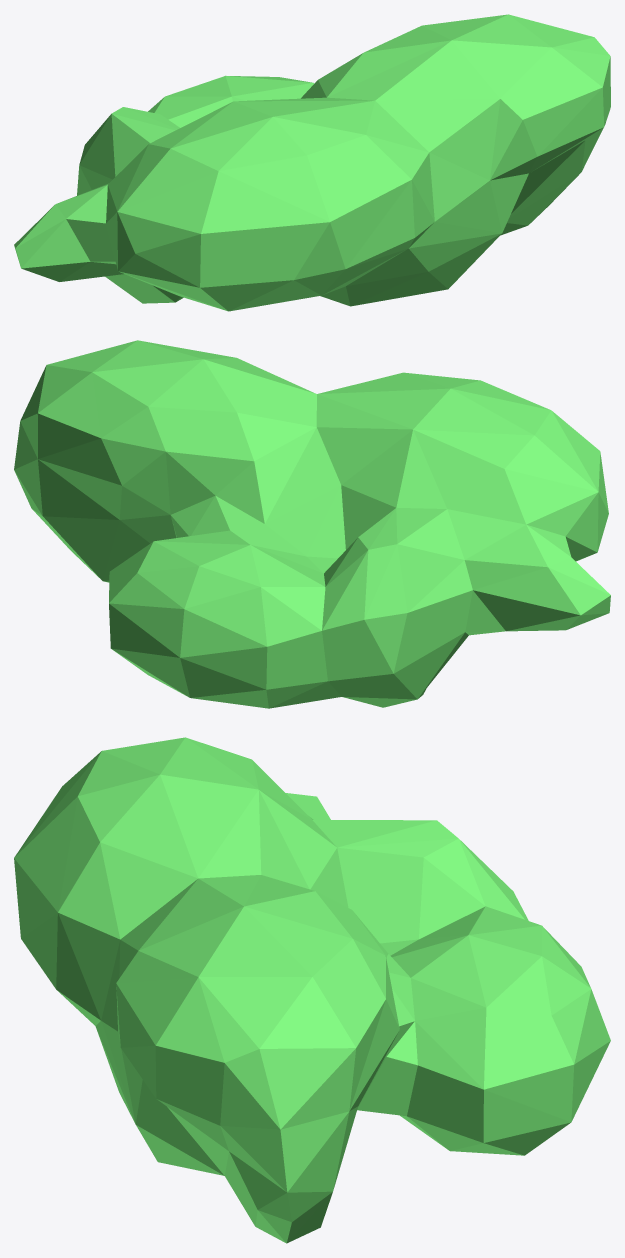
The model's file is cloud_03.glb.
The picture shows the model from 3 angles, top to bottom: view 1: azimuth 30°, elevation 25°; view 2: azimuth 150°, elevation 25°; view 3: azimuth 270°, elevation 25°; orthographic projection. The views are drawn at different scales.
Parts seen in each view (by area): view 1: cloud_03; view 2: cloud_03; view 3: cloud_03.
Part boxes in pixels (<box>): cloud_03: <box>14,14,610,311</box>; cloud_03: <box>14,340,610,708</box>; cloud_03: <box>14,737,610,1243</box>.
Size of the model in its own units: 6.75 by 2.58 by 4.58.
